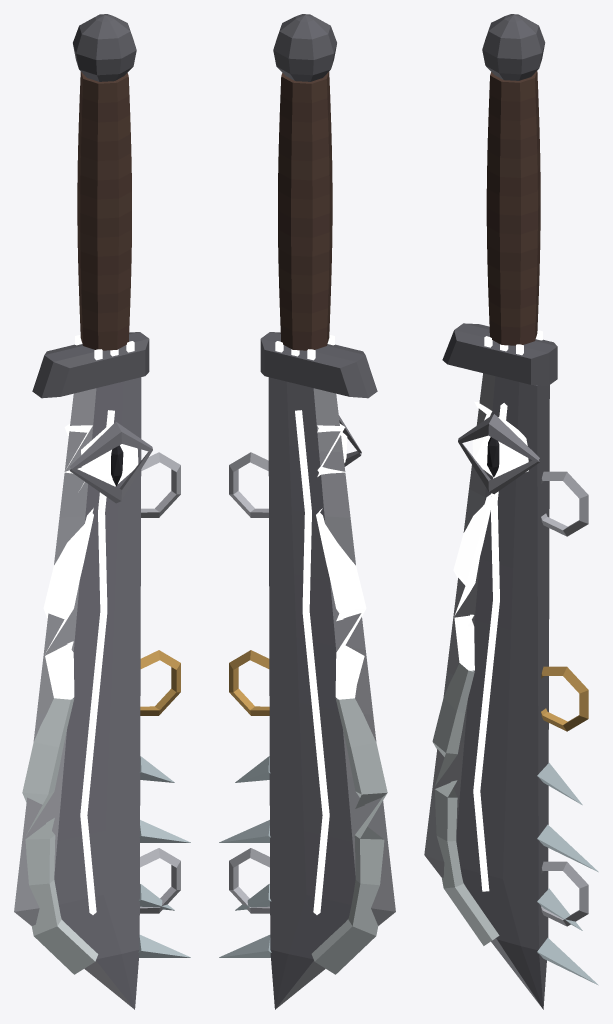
File: blade-tempered-edge.glb
3 renders of one model, left to right at view 1: azimuth 30°, elevation 25°; view 2: azimuth 150°, elevation 25°; view 3: azimuth 330°, elevation 25°, orthographic.
Parts seen in each view (by area): view 1: blade-tempered-edge, blink_eye, pulse_vein; view 2: blade-tempered-edge, pulse_vein, blink_eye; view 3: blade-tempered-edge, blink_eye, pulse_vein.
Boxes of the visible parts, x1,y1,x2,y2 form: blade-tempered-edge: (14,14,190,1009); blink_eye: (70,422,152,503); pulse_vein: (80,410,114,914); blade-tempered-edge: (219,14,395,1009); pulse_vein: (295,410,329,914); blink_eye: (338,415,361,466); blade-tempered-edge: (424,14,598,1009); blink_eye: (458,414,539,494); pulse_vein: (473,403,507,891).
Bounding box in the file's own units: 0.2218 × 1.2 × 0.0826.
